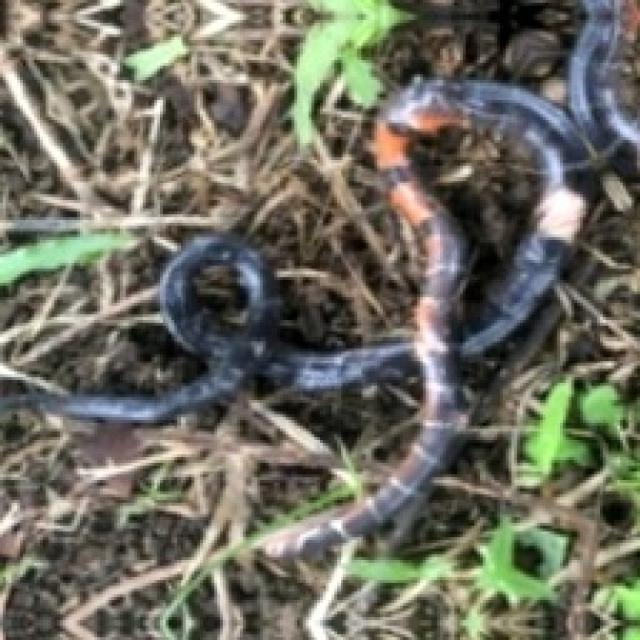barredcoral snake: (2, 3, 640, 560)
